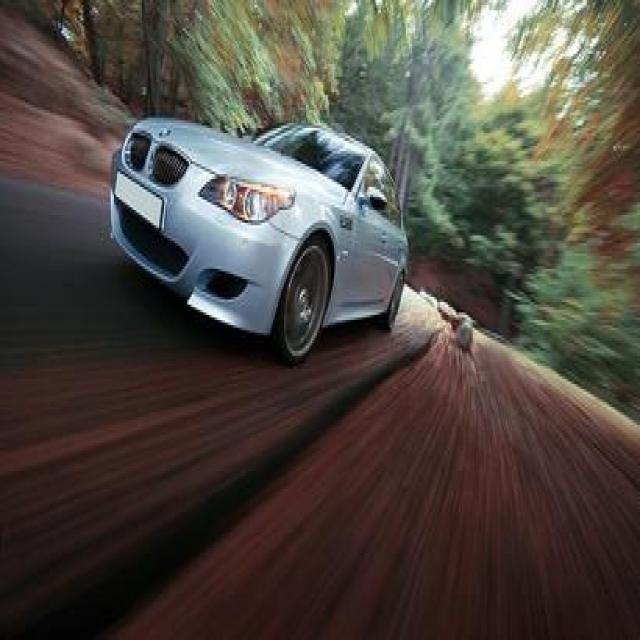Car: (48, 51, 466, 425)
